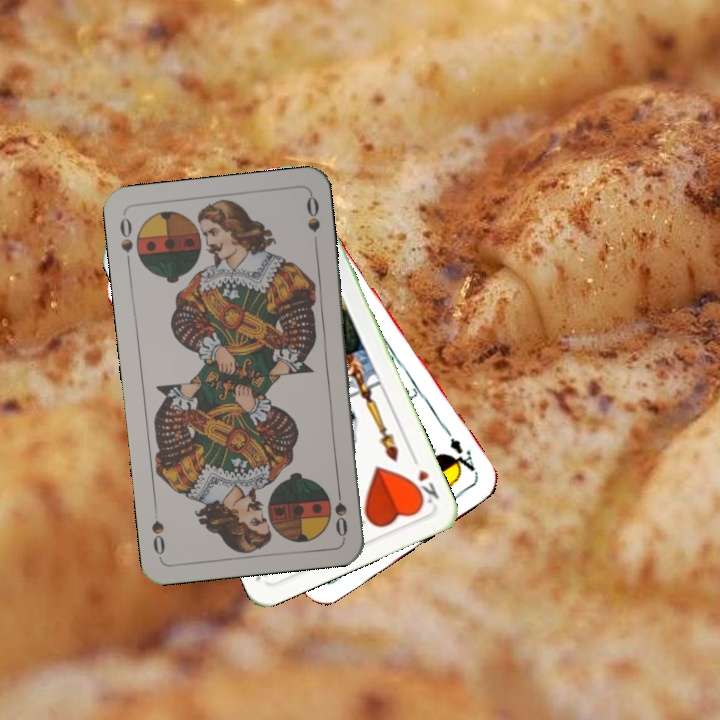EA: (443, 433, 480, 477)
HK: (406, 450, 442, 508)
SO: (331, 480, 350, 539), (116, 213, 135, 270)
